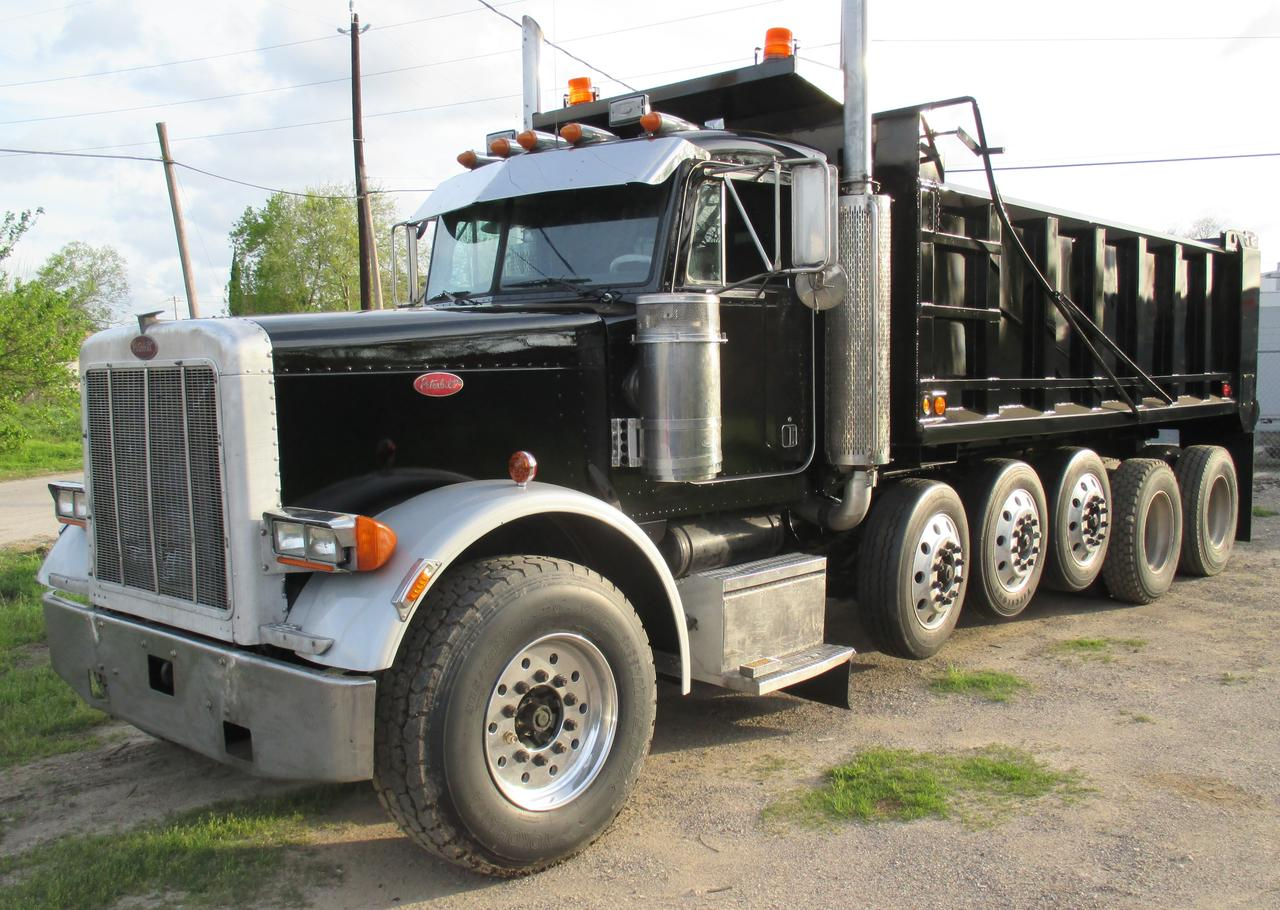truck: (31, 61, 1262, 873)
